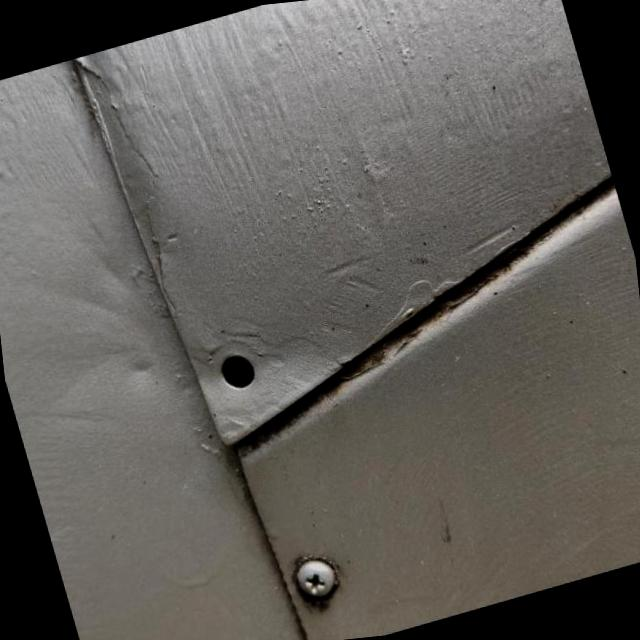Missing Fastener: (218, 353, 254, 389)
